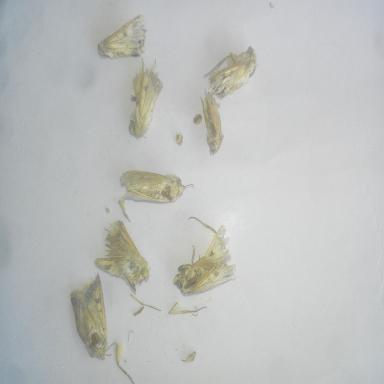abw: (171, 222, 239, 298), (92, 217, 153, 293), (68, 272, 118, 364), (124, 56, 168, 142), (199, 45, 261, 100), (118, 166, 195, 207), (94, 9, 150, 63), (197, 86, 230, 160)
